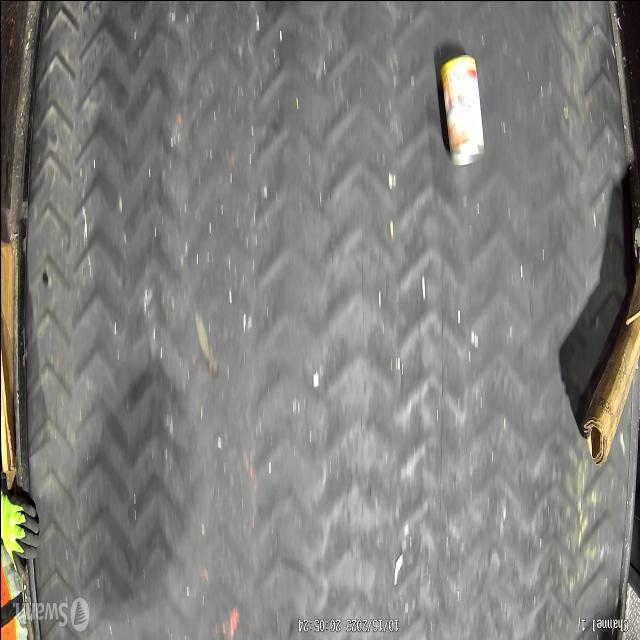can: (438, 54, 484, 165)
